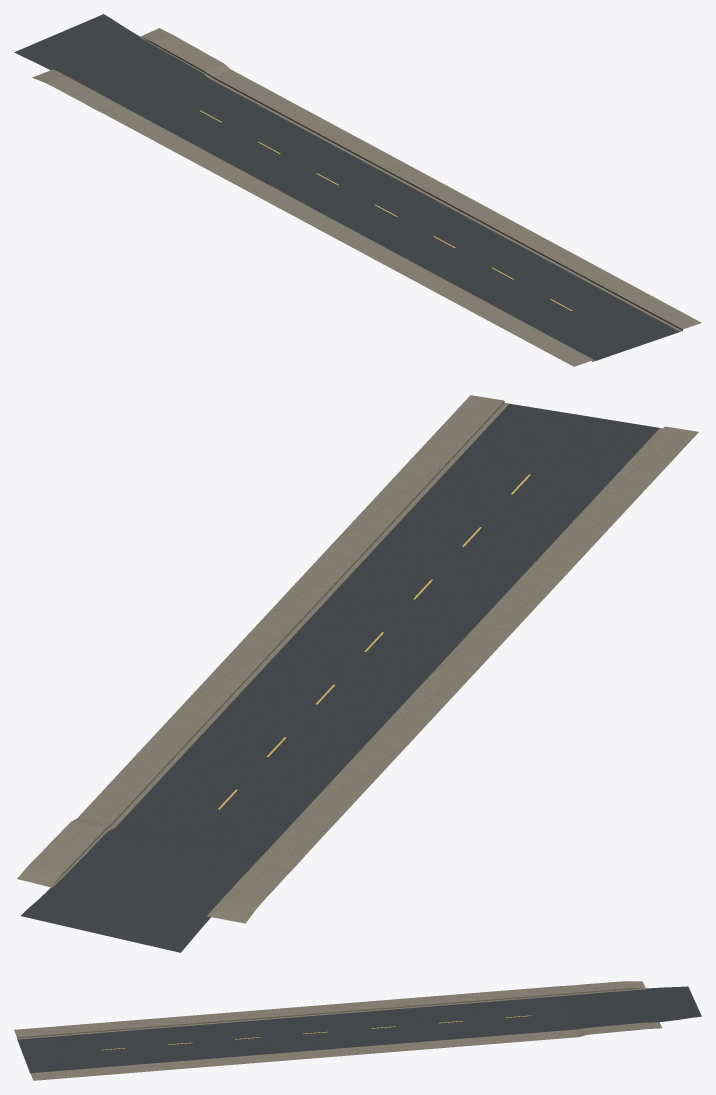
3 views of the same model, one above another, from view 1: azimuth 30°, elevation 25°; view 2: azimuth 150°, elevation 25°; view 3: azimuth 270°, elevation 25° (orthographic). The views are drawn at different scales.
Parts seen in each view (by area): view 1: Carriageway, Clipped sidewalks with lowered crossing approaches, Concrete drainage margins, Raised curb faces; view 2: Carriageway, Clipped sidewalks with lowered crossing approaches, Concrete drainage margins, Raised curb faces; view 3: Carriageway, Clipped sidewalks with lowered crossing approaches, Concrete drainage margins, Raised curb faces, Inferred center markings.
Boxes of the visible parts, box(x1,y1,x2,y2) form: Carriageway: box(14, 14, 679, 360); Clipped sidewalks with lowered crossing approaches: box(32, 28, 701, 366); Concrete drainage margins: box(51, 36, 682, 361); Raised curb faces: box(142, 37, 682, 361); Carriageway: box(21, 403, 659, 952); Clipped sidewalks with lowered crossing approaches: box(17, 395, 698, 923); Concrete drainage margins: box(51, 403, 662, 916); Raised curb faces: box(52, 401, 504, 885); Carriageway: box(17, 986, 701, 1073); Clipped sidewalks with lowered crossing approaches: box(14, 981, 661, 1080); Concrete drainage margins: box(17, 988, 659, 1073); Raised curb faces: box(17, 988, 643, 1038); Inferred center markings: box(100, 1015, 531, 1050).
Size of the model in its own units: 25.89 by 1.55 by 80.26.
